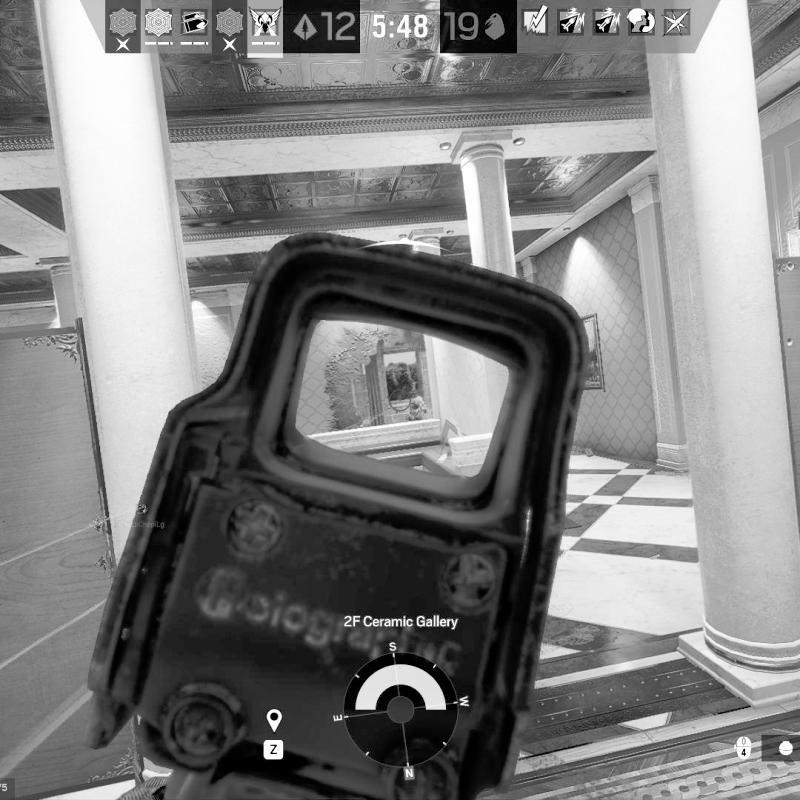Character: (405, 396, 430, 422)
Friend_label: (118, 502, 165, 530)
Head: (414, 396, 422, 405)
